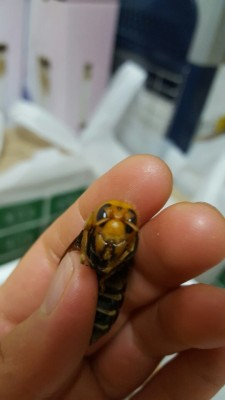asian_giant_hornet: (54, 200, 146, 347)
